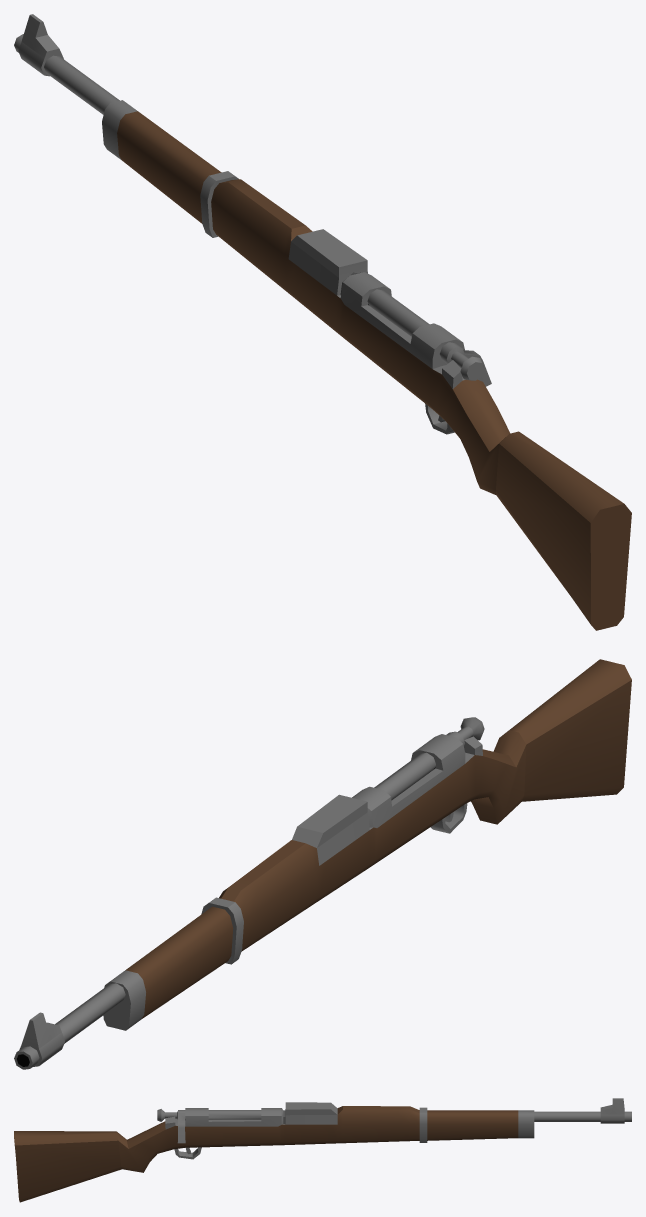
Rendered from MosinNagantRifleV2.fbx.
3 views of the same model, one above another, from view 1: azimuth 30°, elevation 25°; view 2: azimuth 150°, elevation 25°; view 3: azimuth 270°, elevation 25° (orthographic). The views are drawn at different scales.
Visible parts, largest first — view 1: MoistNugget, MoistNuggetBolt; view 2: MoistNugget, MoistNuggetBolt; view 3: MoistNugget, MoistNuggetBolt.
Part boxes in pixels (left/top/right/bottom): MoistNugget: left=14, top=14, right=631, bottom=630; MoistNuggetBolt: left=367, top=289, right=491, bottom=386; MoistNugget: left=14, top=659, right=631, bottom=1069; MoistNuggetBolt: left=374, top=717, right=484, bottom=800; MoistNugget: left=14, top=1098, right=631, bottom=1202; MoistNuggetBolt: left=157, top=1109, right=261, bottom=1143.
Size of the model in its own units: 0.0808 by 0.2606 by 1.44.
